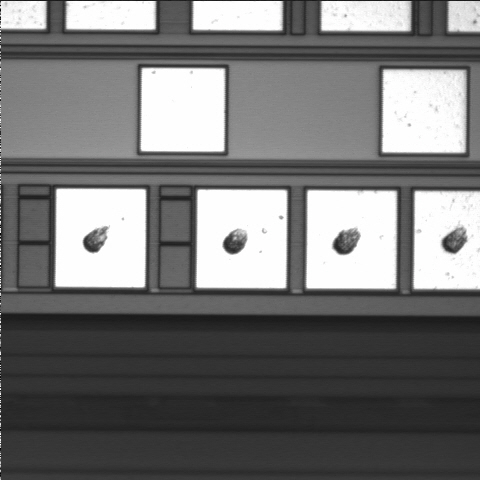pad: (55, 189, 146, 287), (306, 190, 396, 289), (197, 190, 287, 288), (141, 68, 225, 152), (382, 70, 465, 153)
